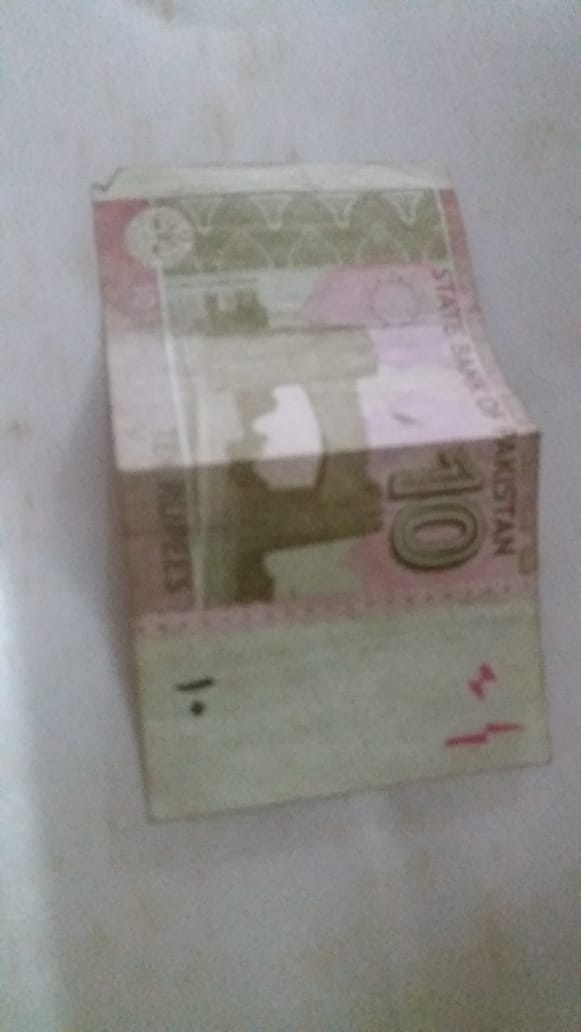10 rupee: (88, 162, 565, 804)
